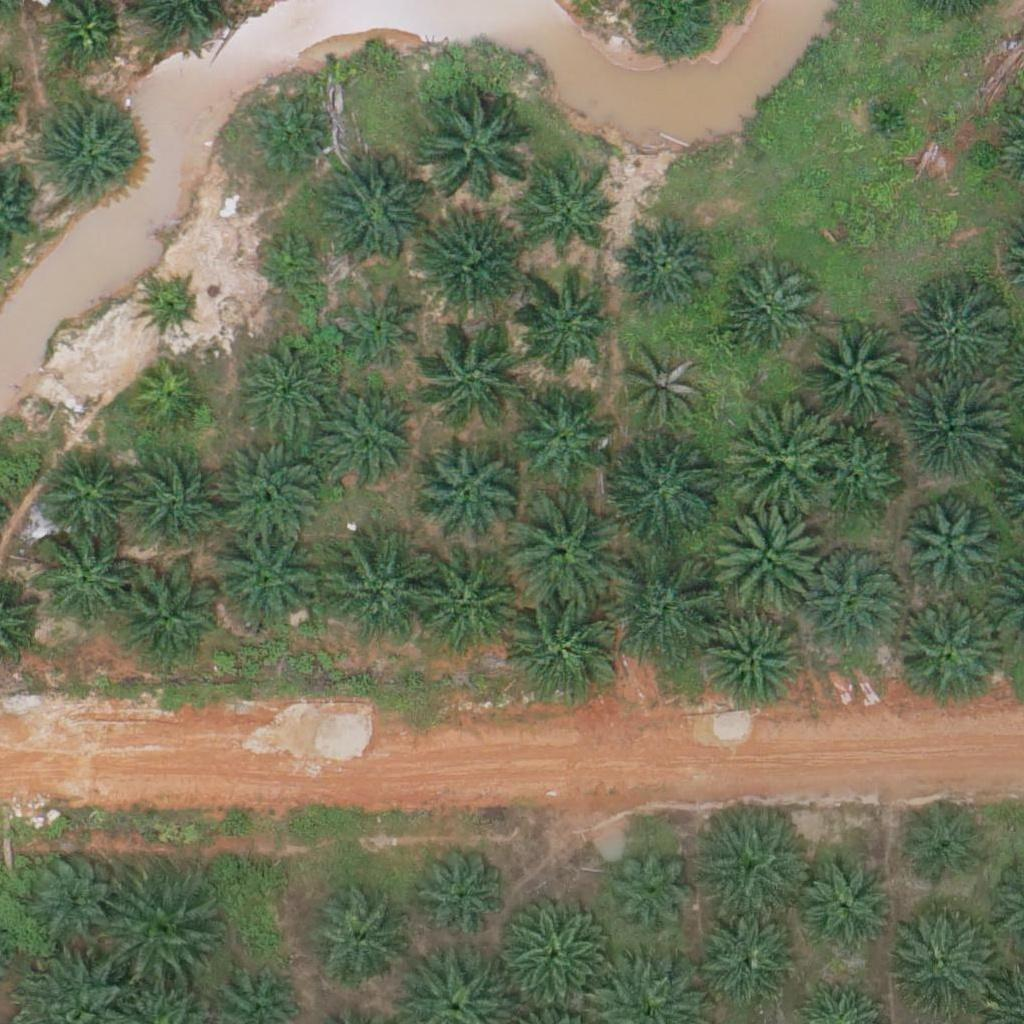Kelapa_Sawit: (896, 595, 1009, 709), (493, 901, 606, 1014), (878, 908, 991, 1021), (895, 374, 1008, 487), (507, 595, 620, 708), (420, 85, 533, 198), (314, 158, 427, 271), (212, 436, 325, 549), (209, 524, 322, 637), (111, 563, 224, 676), (695, 802, 807, 916), (419, 316, 531, 430), (317, 533, 429, 647), (107, 879, 219, 992), (800, 318, 912, 431), (723, 401, 835, 514), (710, 499, 822, 612), (612, 554, 724, 667), (608, 433, 720, 546), (506, 495, 618, 608), (407, 552, 519, 665), (410, 213, 522, 326), (411, 844, 511, 945), (19, 844, 119, 945), (697, 914, 797, 1015), (901, 504, 1001, 605), (802, 548, 902, 649), (716, 259, 816, 360), (512, 279, 612, 380), (414, 441, 514, 542), (314, 392, 414, 493), (122, 458, 222, 559), (37, 449, 137, 550), (310, 894, 410, 994), (796, 849, 896, 949), (904, 289, 1004, 389), (701, 611, 801, 711), (613, 214, 713, 314), (512, 383, 612, 483), (39, 107, 139, 207), (237, 340, 337, 440), (32, 529, 132, 629), (900, 799, 988, 887), (812, 432, 900, 520), (337, 286, 425, 374), (242, 94, 330, 182), (612, 847, 699, 935), (622, 345, 709, 433), (524, 175, 611, 263), (254, 225, 329, 300), (130, 363, 205, 438), (139, 276, 202, 339), (859, 91, 909, 142)
